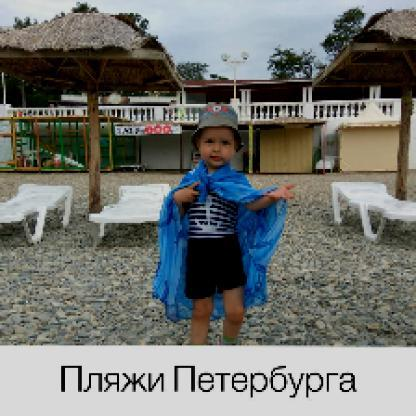child: (173, 105, 298, 347)
